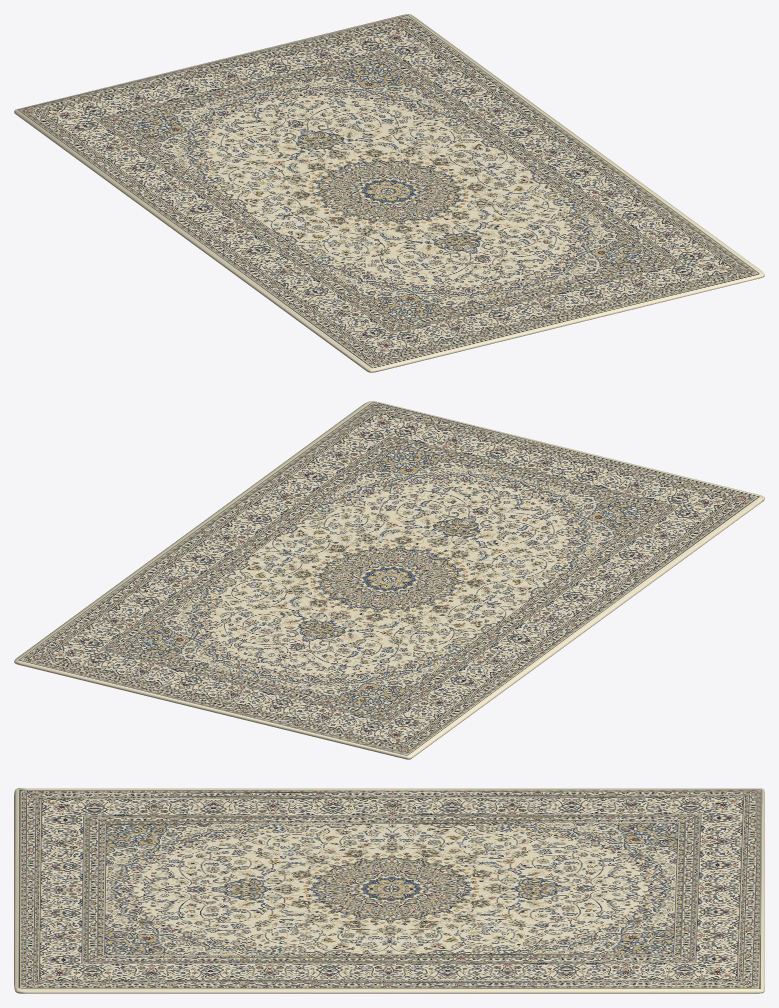
Rendered from Traditional rug.fbx.
The picture shows the model from 3 angles, top to bottom: view 1: azimuth 30°, elevation 25°; view 2: azimuth 150°, elevation 25°; view 3: azimuth 270°, elevation 25°; orthographic projection. The views are drawn at different scales.
Visible parts, largest first — view 1: Traditional rug; view 2: Traditional rug; view 3: Traditional rug.
Boxes of the visible parts, x1=… form: Traditional rug: x1=14, y1=14, x2=764, y2=372; Traditional rug: x1=14, y1=401, x2=764, y2=759; Traditional rug: x1=14, y1=788, x2=764, y2=993.
Bounding box in the file's own units: 180 × 1.5 × 280.
1 material, 1 textured.
